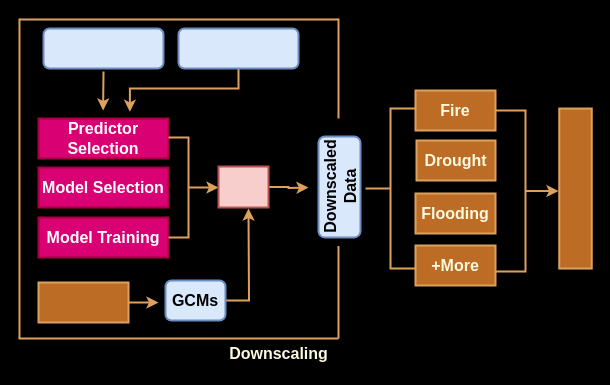
Image size: 610x385. Some labels were removed from this diagram. The shapes that lost their labels are listed below. From the top down, each one's box as (x1, y1, x2, y2) in pixels, then its label:
(42, 27, 164, 69): Reanalysis Datasets
(177, 27, 299, 69): Station Observation
(217, 165, 269, 208): ESD
(558, 107, 592, 269): Impact Assessment
(37, 281, 129, 323): Climate Scenarios
